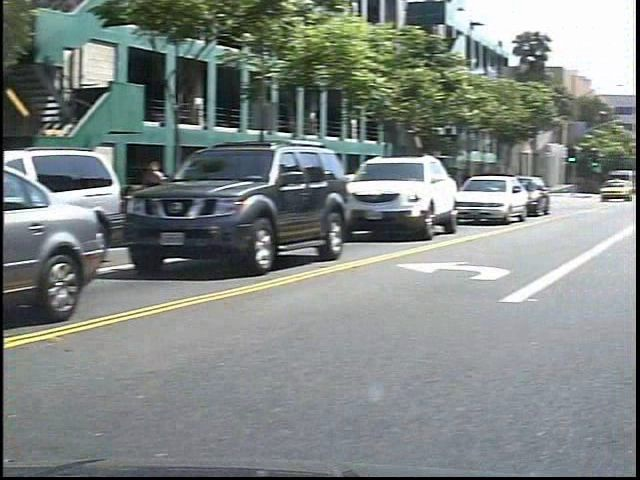person: (155, 155, 184, 234)
